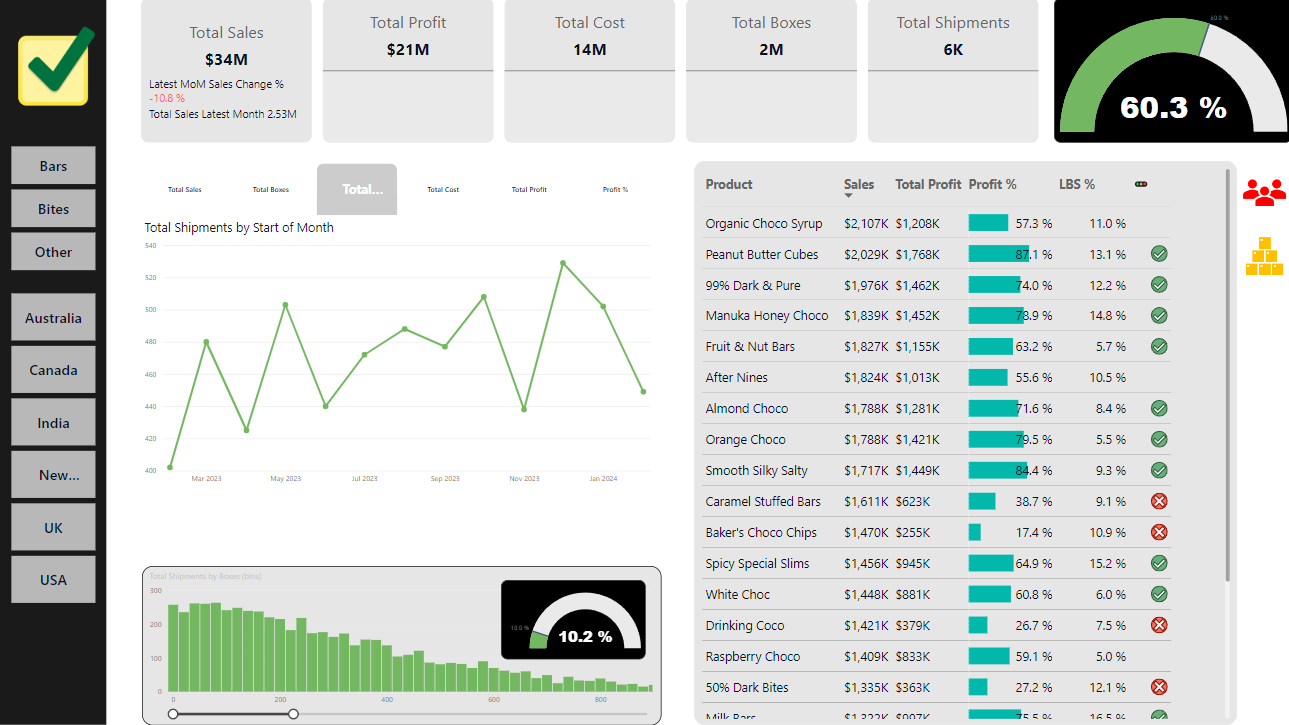

What the dashboard file says about the page in this screenshot:
{"tool":"powerbi","page":{"name":"Sales Report","canvas":[1920,1080],"ordinal":2},"visuals":[{"type":"shape","box":[0,0,158.3,1080],"z":0},{"type":"cardVisual","fields":{"Data":["_Measures.Total Sales","_Measures.Total Profit","_Measures.Total Cost","_Measures.Total Boxes","_Measures.Total Shipments"]},"box":[209.6,0,1336.7,215.7],"z":1000},{"type":"gauge","fields":{"Y":["_Measures.Profit %"]},"box":[1566.4,0,354.4,215],"z":2000},{"type":"image","box":[0,0,158.3,215],"z":3000},{"type":"lineChart","fields":{"Y":["_Measures.Total Shipments"],"Category":["calendar.Start of Month"]},"box":[210.3,328.4,772.6,401.6],"z":4000},{"type":"advancedSlicerVisual","fields":{"Values":["Measure Selector.Measure Selector"]},"box":[210.3,241,772.6,87.4],"z":5000},{"type":"columnChart","fields":{"Category":["shipments.Boxes (bins)"],"Y":["_Measures.Total Shipments"]},"box":[210.5,844,771.7,236.8],"z":6000},{"type":"gauge","fields":{"Y":["_Measures.LBS %"]},"box":[744.2,864.7,215,118.1],"z":7000},{"type":"tableEx","title":"Product Details","fields":{"Values":["products.Product","_Measures.Total Sales","_Measures.Total Profit","_Measures.Profit %","_Measures.LBS %","_Measures.Profit Target Indicator"]},"box":[1031.7,241.7,806.7,838.3],"z":9000},{"type":"image","title":"Product Icon","box":[1838.3,335,81.7,98.3],"z":10000},{"type":"image","title":"People Icon","box":[1838.3,241.7,81.7,93.3],"z":11000},{"type":"advancedSlicerVisual","fields":{"Values":["products.Category"]},"box":[11.7,215,135,196.7],"z":12000},{"type":"advancedSlicerVisual","fields":{"Values":["shipments.Geography"]},"box":[11.7,433.3,135,471.7],"z":13000}]}

Visuals, with their boxes on the page's 1920x1080 design canvas (x1, y1, x2, y2). These are canvas units, not pixel positions in the 1289x725 screenshot, which may show the page scaled, cropped or inside an application window:
shape: l=0, t=0, r=158, b=1080
cardVisual - _Measures.Total Sales x _Measures.Total Profit: l=210, t=0, r=1546, b=216
gauge - _Measures.Profit %: l=1566, t=0, r=1921, b=215
image: l=0, t=0, r=158, b=215
lineChart - _Measures.Total Shipments x calendar.Start of Month: l=210, t=328, r=983, b=730
advancedSlicerVisual - Measure Selector.Measure Selector: l=210, t=241, r=983, b=328
columnChart - shipments.Boxes (bins) x _Measures.Total Shipments: l=210, t=844, r=982, b=1081
gauge - _Measures.LBS %: l=744, t=865, r=959, b=983
"Product Details" tableEx: l=1032, t=242, r=1838, b=1080
"Product Icon" image: l=1838, t=335, r=1920, b=433
"People Icon" image: l=1838, t=242, r=1920, b=335
advancedSlicerVisual - products.Category: l=12, t=215, r=147, b=412
advancedSlicerVisual - shipments.Geography: l=12, t=433, r=147, b=905
